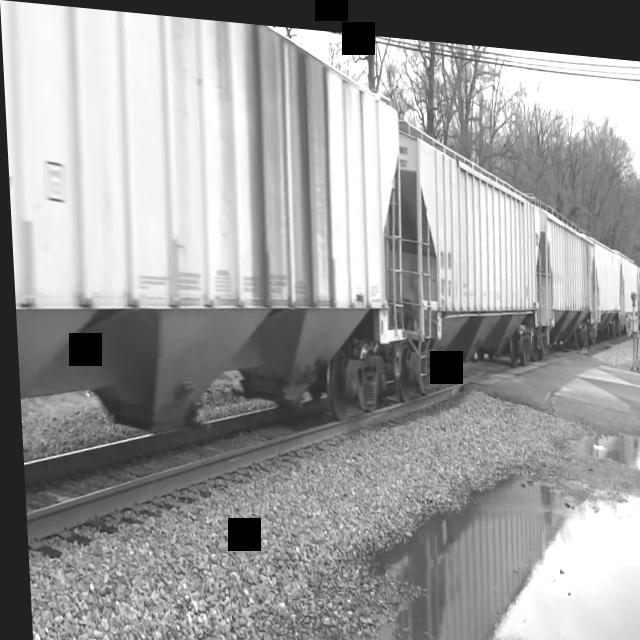hopper: (0, 0, 409, 462), (398, 88, 550, 386)
